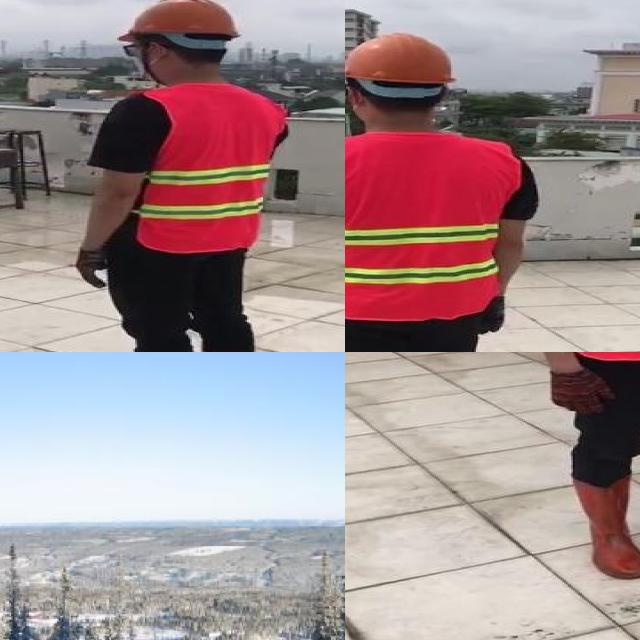boots: (571, 480, 640, 581)
hand_glove: (546, 367, 612, 412), (74, 247, 112, 288), (476, 296, 506, 333)
head_helmet: (345, 33, 458, 86), (111, 0, 245, 37)
person: (56, 0, 289, 352), (345, 32, 552, 352), (493, 352, 640, 577)
vest: (345, 136, 515, 319), (119, 84, 284, 253)
